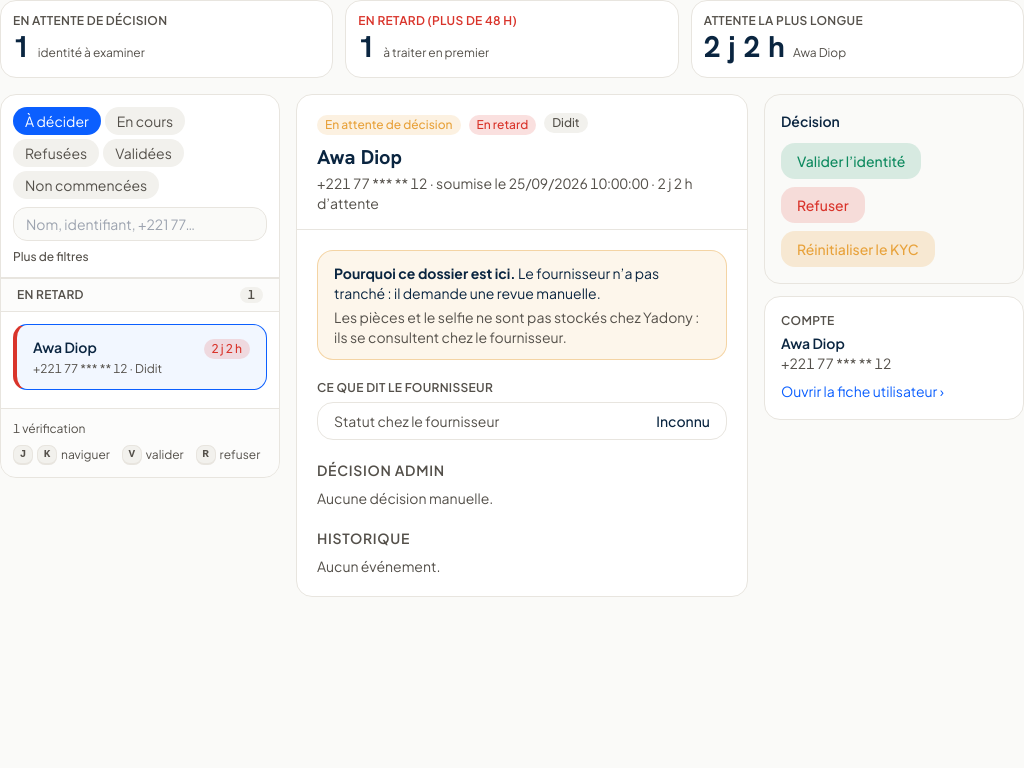
Scenario: /kyc › onglet sans dossier : rien ne reste ouvert
The width and height of the screenshot is (1024, 768).
Click the tab with test id "kyc-tab-VERIFIED".
click(144, 153)  # box [103, 139, 184, 167]
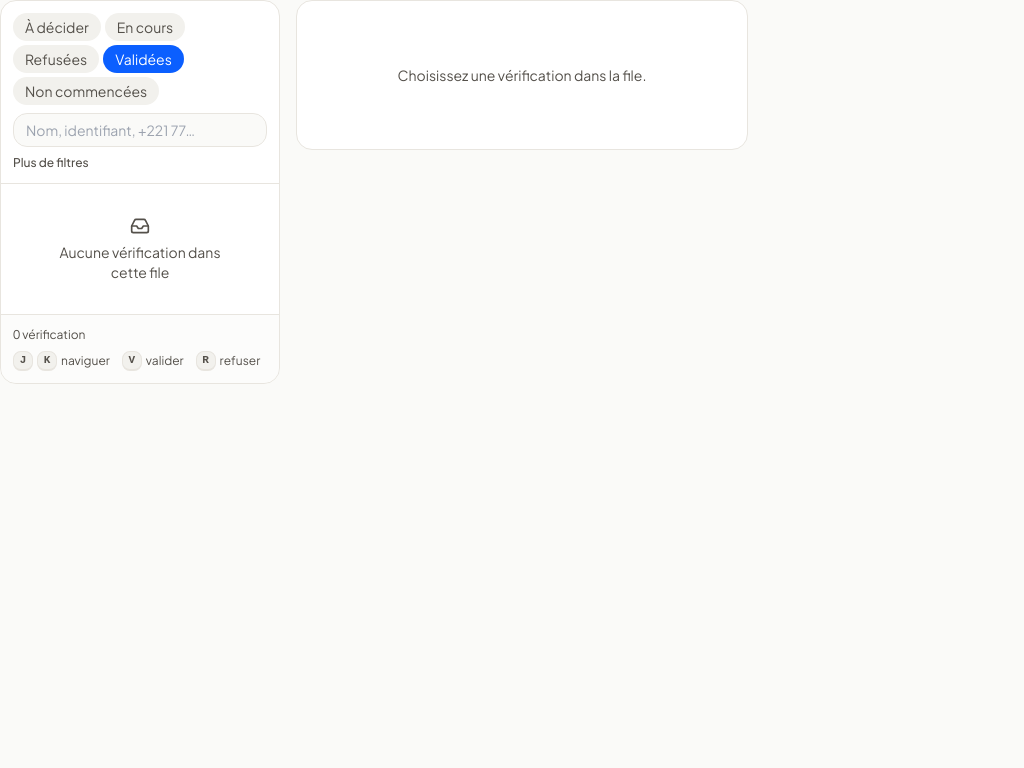
Expected: the text "Choisissez une vérification dans la file." is shown, [398, 66, 646, 84]
